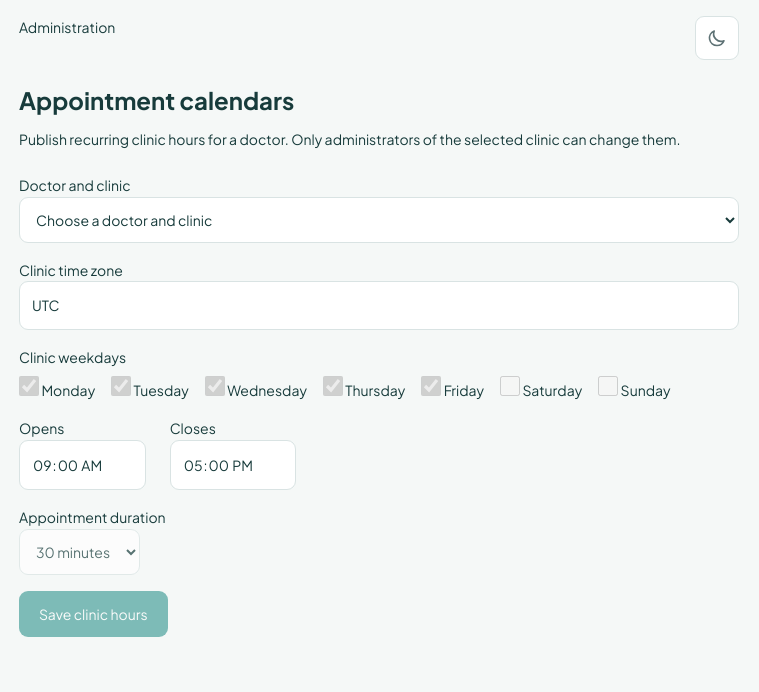
Test: a save conflict leaves the calendar editable for retry
Select "Dr. Current —" in the dropdown labelled "Doctor and clinic" at (379, 220), box [19, 197, 739, 243]
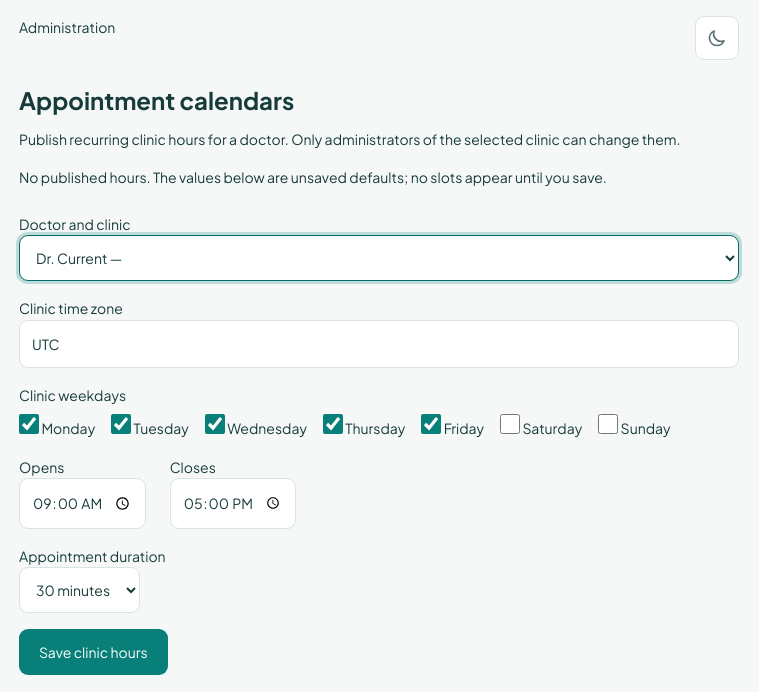
Check: the message is shown, box [19, 168, 607, 186]
Click the button "Save clinic hours" at (93, 652), box [19, 629, 168, 675]
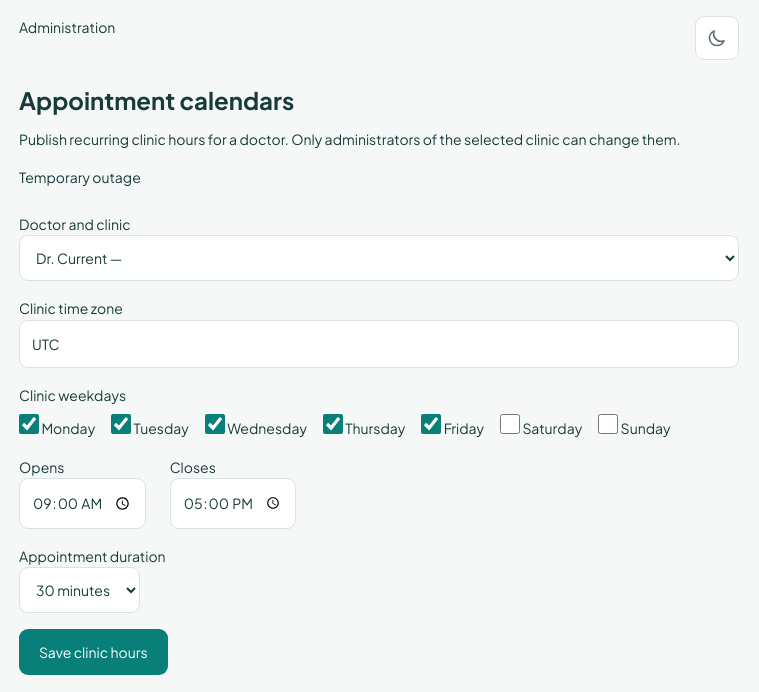
Check: the field labelled "Clinic time zone" is enabled, box [19, 320, 739, 368]
Check: the message reads "Temporary outage", box [19, 168, 141, 186]
